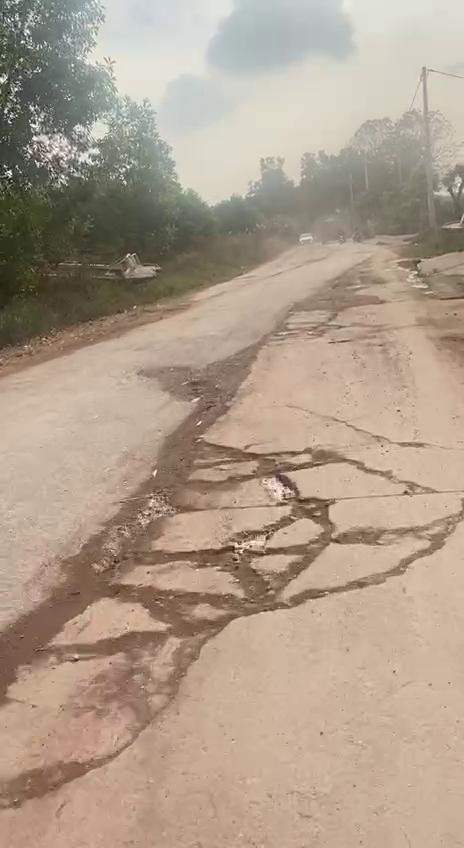pothole: (0, 615, 244, 809), (63, 438, 334, 610)
